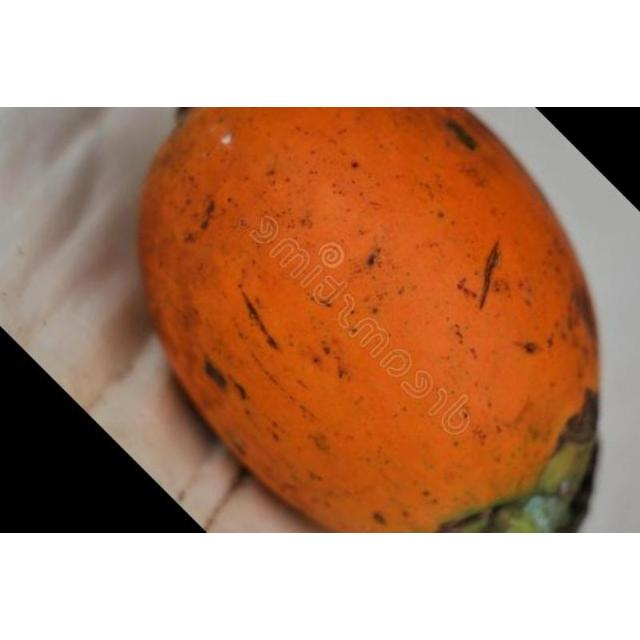good: (137, 107, 601, 533)
